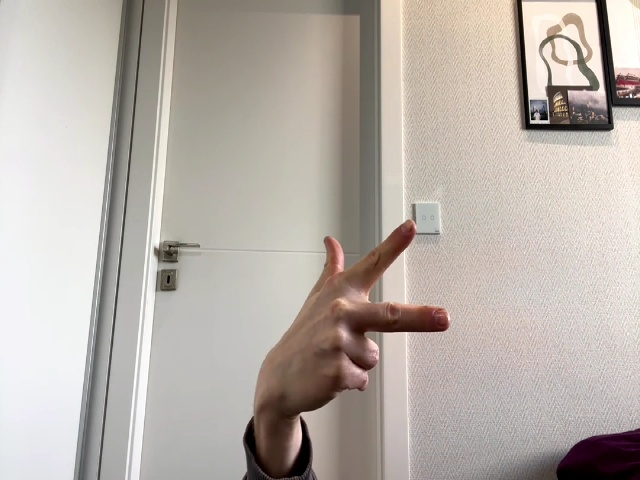K: (267, 220, 447, 408)
